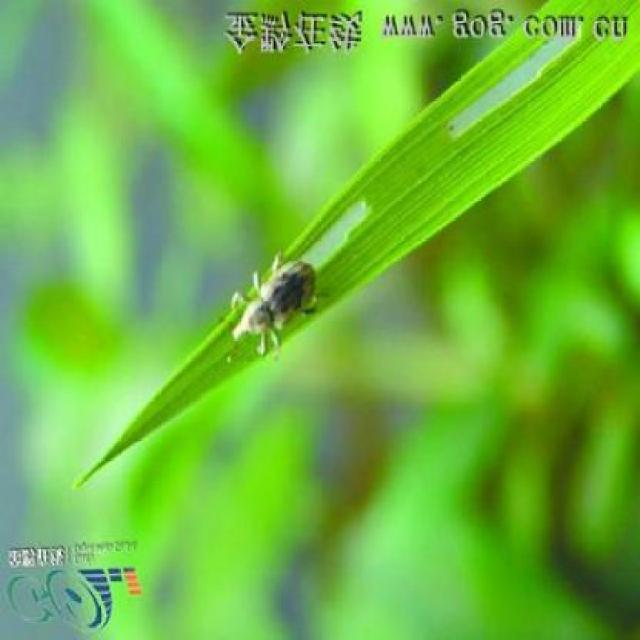rice-bug: (233, 247, 321, 351)
